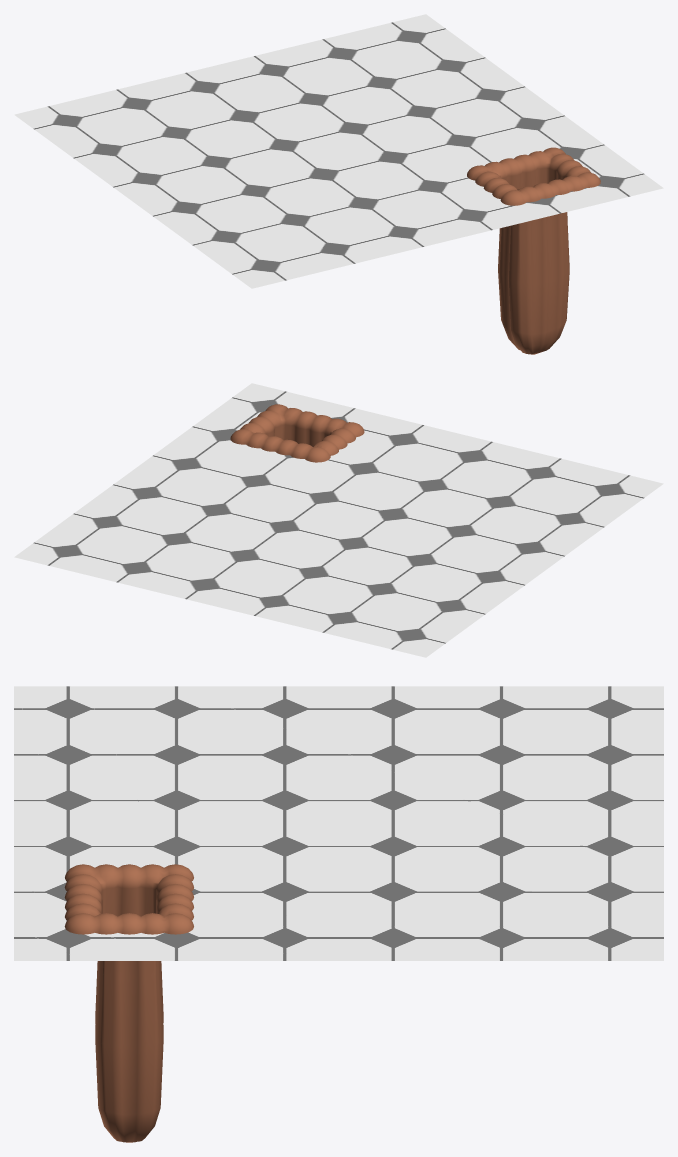
The model's file is Ground_hole.fbx.
3 views of the same model, one above another, from view 1: azimuth 30°, elevation 25°; view 2: azimuth 150°, elevation 25°; view 3: azimuth 270°, elevation 25° (orthographic). The views are drawn at different scales.
Visible parts, largest first — view 1: Gound_jail; view 2: Gound_jail; view 3: Gound_jail.
Part boxes in pixels (box(x1,y1,x2,y2)): Gound_jail: box(14, 14, 663, 354); Gound_jail: box(14, 383, 663, 657); Gound_jail: box(14, 686, 663, 1142).
Size of the model in its own units: 56.29 by 24.08 by 56.29.
